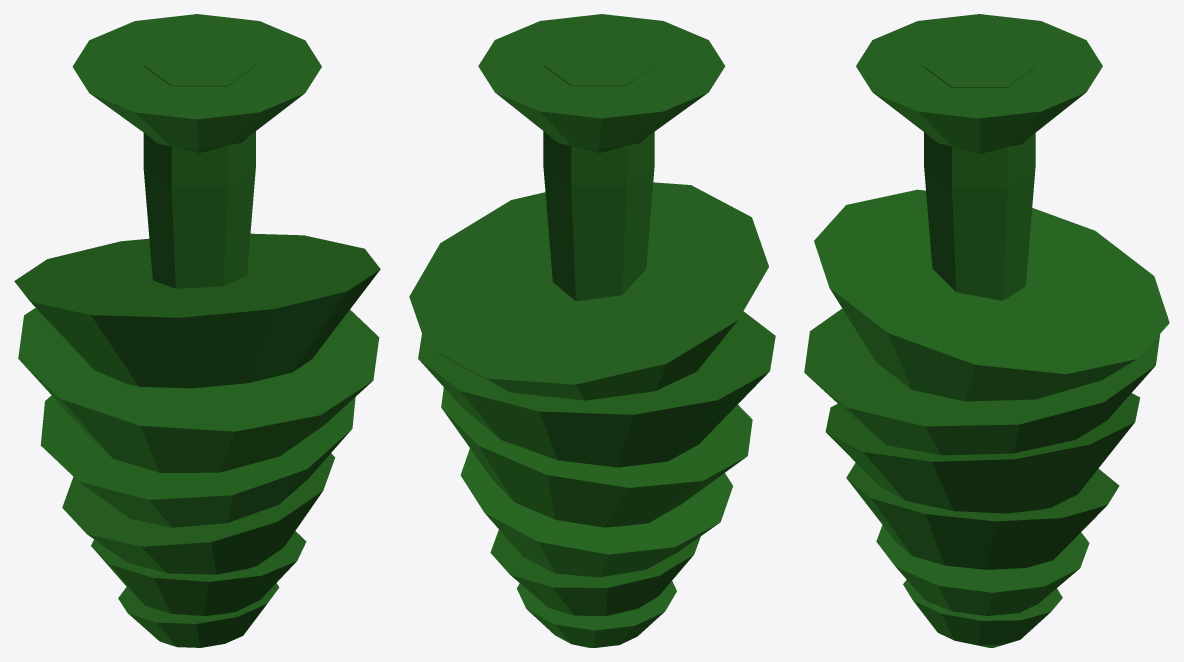
Rendered from tree.obj.
The picture shows the model from 3 angles, left to right: view 1: azimuth 30°, elevation 25°; view 2: azimuth 150°, elevation 25°; view 3: azimuth 270°, elevation 25°; orthographic projection.
Visible parts, largest first — view 1: Circle.005; view 2: Circle.005; view 3: Circle.005.
Boxes of the visible parts, x1,y1,x2,y2 form: Circle.005: [14, 14, 380, 647]; Circle.005: [409, 14, 775, 647]; Circle.005: [804, 14, 1169, 647].
Bounding box in the file's own units: 6.54 × 11.44 × 6.56.
